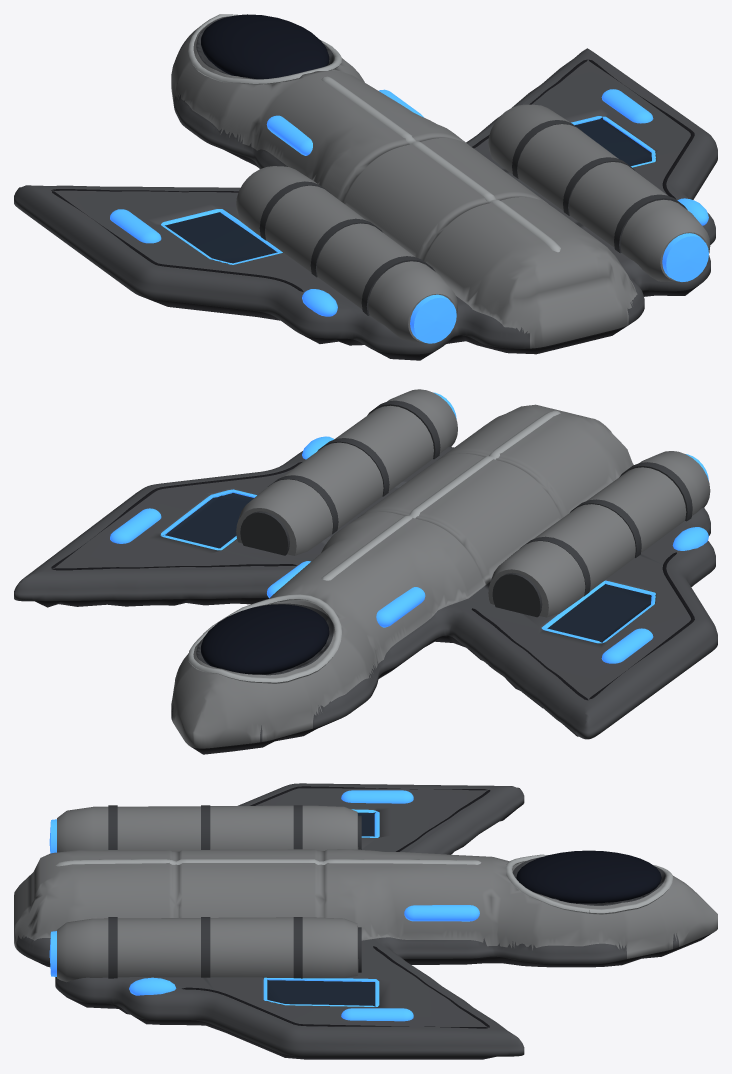
The model's file is store_ship_45.glb.
3 views of the same model, one above another, from view 1: azimuth 30°, elevation 25°; view 2: azimuth 150°, elevation 25°; view 3: azimuth 270°, elevation 25° (orthographic). The views are drawn at different scales.
Parts seen in each view (by area): view 1: hull, nacelle.001, nacelle, canopy, ridge, exhaust, exhaust.001, canopy_rim, neck_lamp, wing_lamp.001, wing_lamp, panel_glow (+8 smaller); view 2: hull, nacelle, nacelle.001, canopy, ridge, canopy_rim, intake.001, intake, neck_lamp, wing_lamp.001, wing_lamp, panel_glow (+9 smaller); view 3: hull, nacelle.001, nacelle, canopy, ridge, canopy_rim, neck_lamp.001, wing_lamp, wing_lamp.001, panel_glow.001, side_lamp.001, nacelle_ring.005 (+6 smaller).
Boxes of the visible parts, x1,y1,x2,y2 form: hull: (14, 16, 717, 360); nacelle.001: (488, 104, 710, 281); nacelle: (236, 166, 457, 342); canopy: (201, 14, 329, 79); ridge: (321, 76, 560, 252); exhaust: (410, 294, 456, 343); exhaust.001: (662, 233, 708, 281); canopy_rim: (188, 14, 341, 85); neck_lamp: (266, 115, 312, 155); wing_lamp.001: (601, 89, 653, 123); wing_lamp: (110, 209, 161, 243); panel_glow: (161, 209, 282, 264); hull: (14, 404, 717, 754); nacelle: (488, 451, 710, 617); nacelle.001: (236, 389, 457, 555); canopy: (201, 604, 329, 674); ridge: (321, 410, 560, 580); canopy_rim: (188, 594, 341, 683); intake.001: (240, 511, 289, 555); intake: (492, 572, 542, 617); neck_lamp: (376, 587, 425, 627); wing_lamp.001: (110, 508, 161, 543); wing_lamp: (601, 628, 653, 663); panel_glow: (541, 580, 655, 643); hull: (14, 783, 717, 1059); nacelle.001: (57, 917, 358, 982); nacelle: (57, 805, 358, 852); canopy: (516, 850, 661, 903); ridge: (55, 859, 481, 866); canopy_rim: (506, 854, 673, 914); neck_lamp.001: (404, 905, 479, 921); wing_lamp: (341, 790, 413, 803); wing_lamp.001: (341, 1008, 413, 1021); panel_glow.001: (263, 977, 379, 1006); side_lamp.001: (129, 977, 176, 995); nacelle_ring.005: (108, 917, 117, 978).
Size of the model in its own units: 92 by 13.78 by 107.
